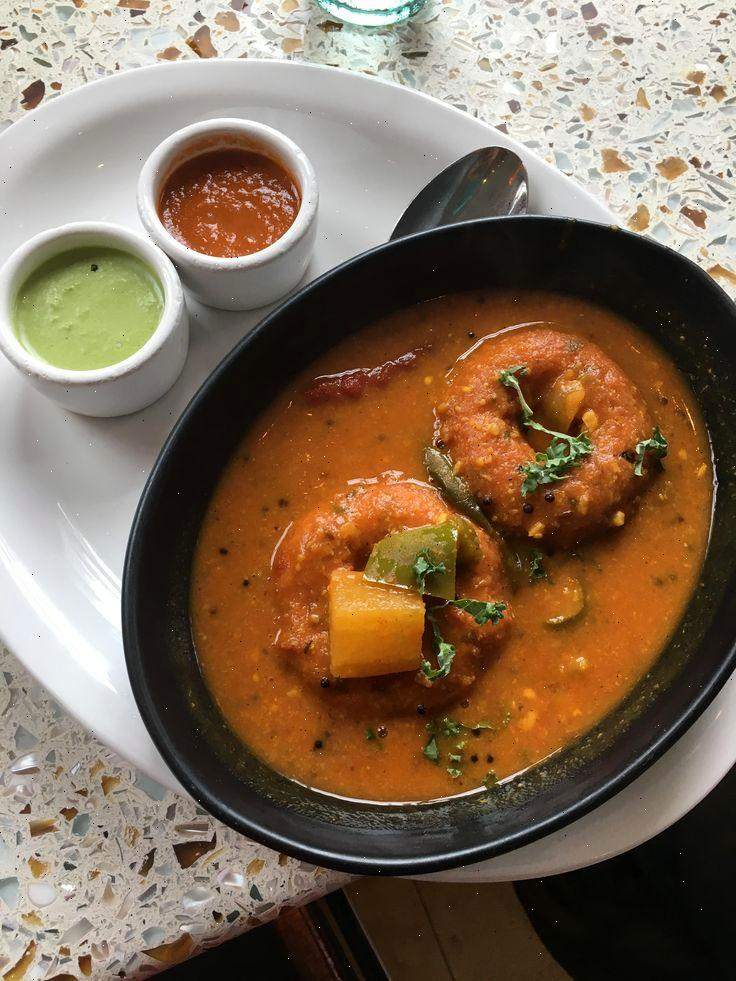coconut chutney: (13, 259, 168, 367)
medu vada: (268, 494, 503, 711), (452, 329, 655, 530)
sambhar: (272, 394, 424, 489)
